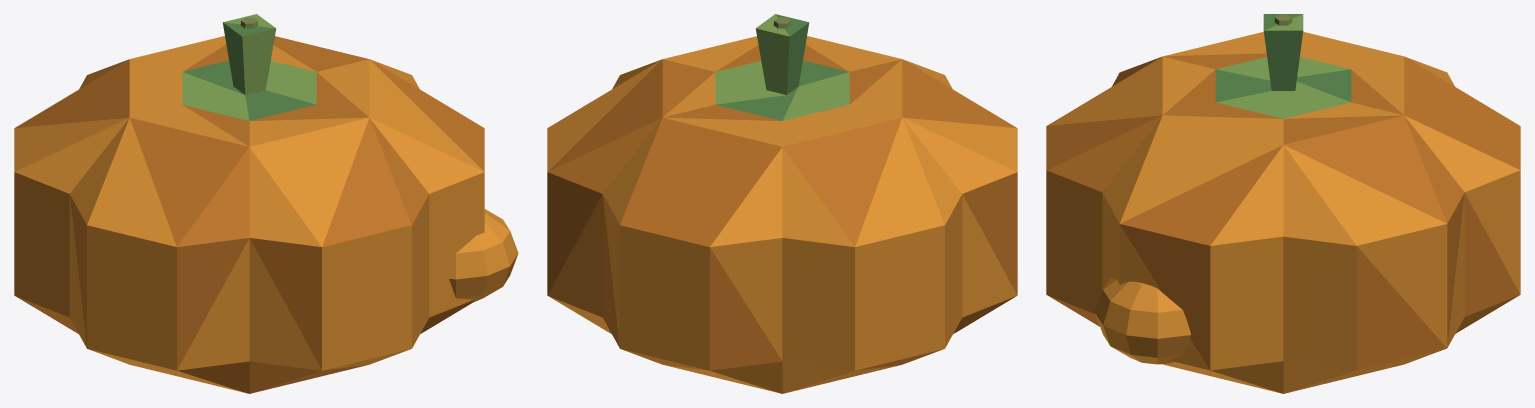
The model's file is crop_pumpkin.glb.
3 views of the same model, side by side, from view 1: azimuth 30°, elevation 25°; view 2: azimuth 150°, elevation 25°; view 3: azimuth 270°, elevation 25° (orthographic).
Visible parts, largest first — view 1: crop_pumpkin; view 2: crop_pumpkin; view 3: crop_pumpkin.
Boxes of the visible parts, bbox=[...] form: crop_pumpkin: bbox=[14, 14, 518, 393]; crop_pumpkin: bbox=[547, 14, 1017, 393]; crop_pumpkin: bbox=[1046, 14, 1520, 393].
Size of the model in its own units: 0.4413 by 0.3338 by 0.4519.
